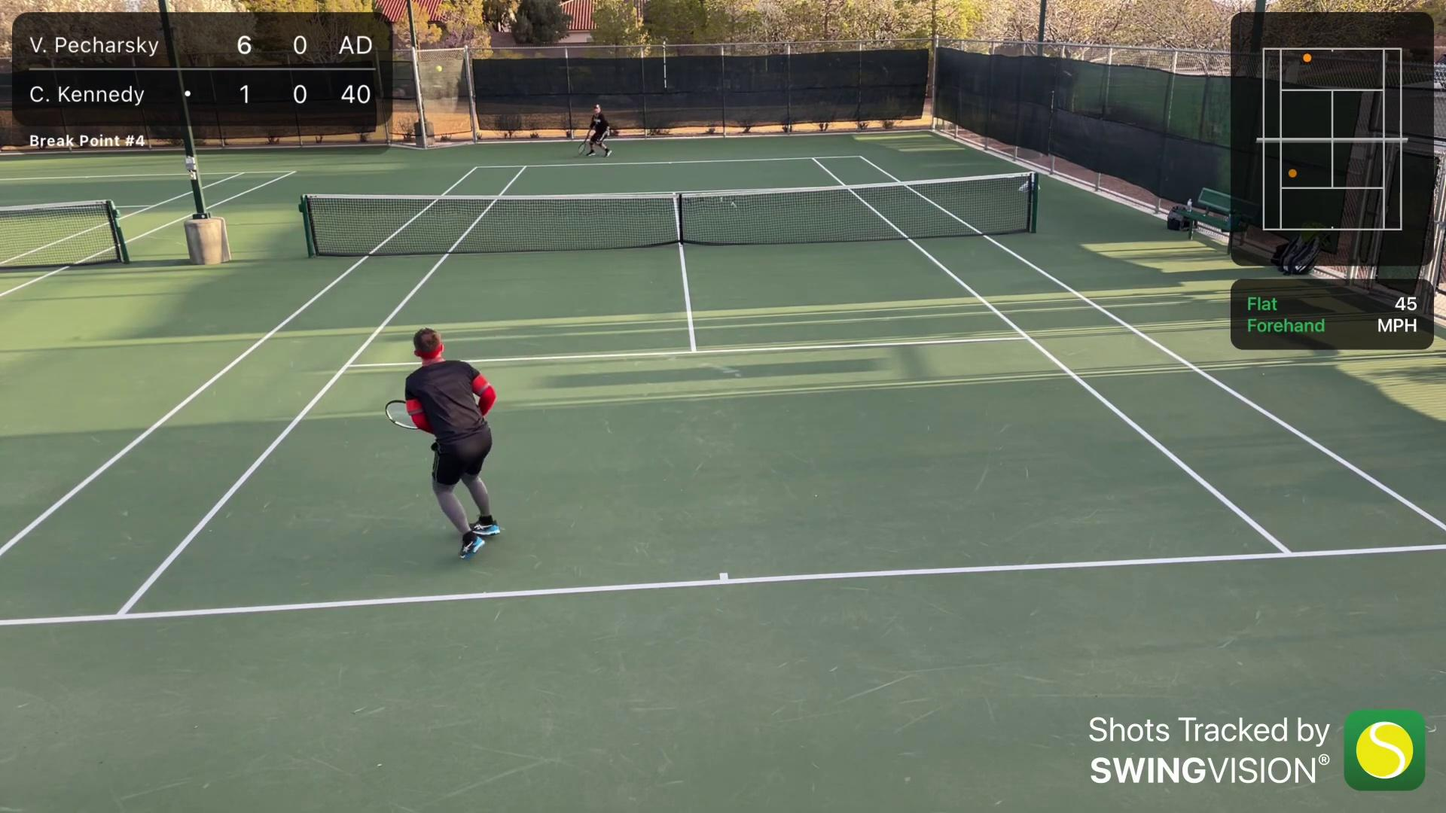ball: (435, 67, 440, 73)
